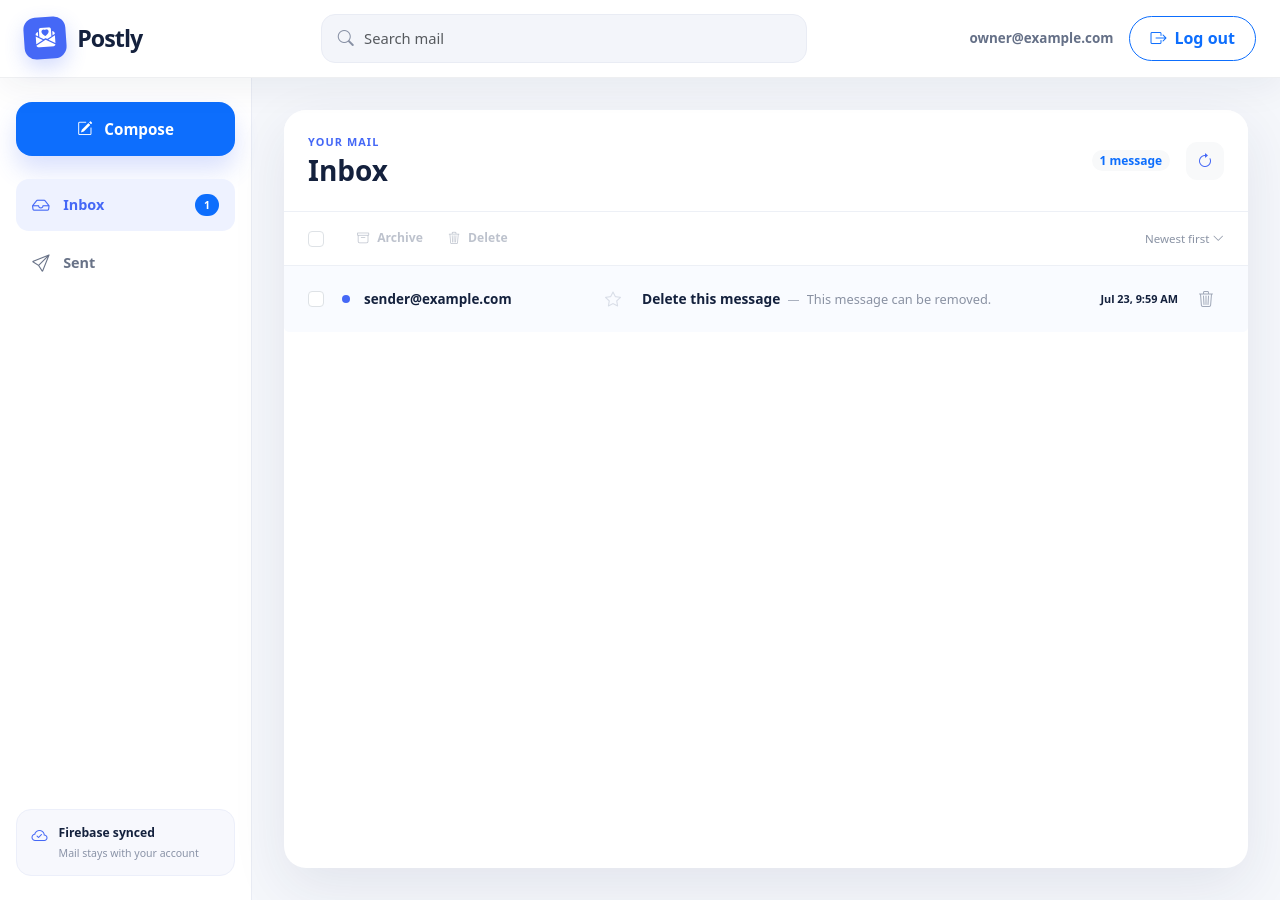
Scenario: Delete mail component › keeps the message visible and shows an error when deletion fails
Click the button named "Delete message: Delete this message" at (1206, 299), box left=1190, top=283, right=1222, bottom=315
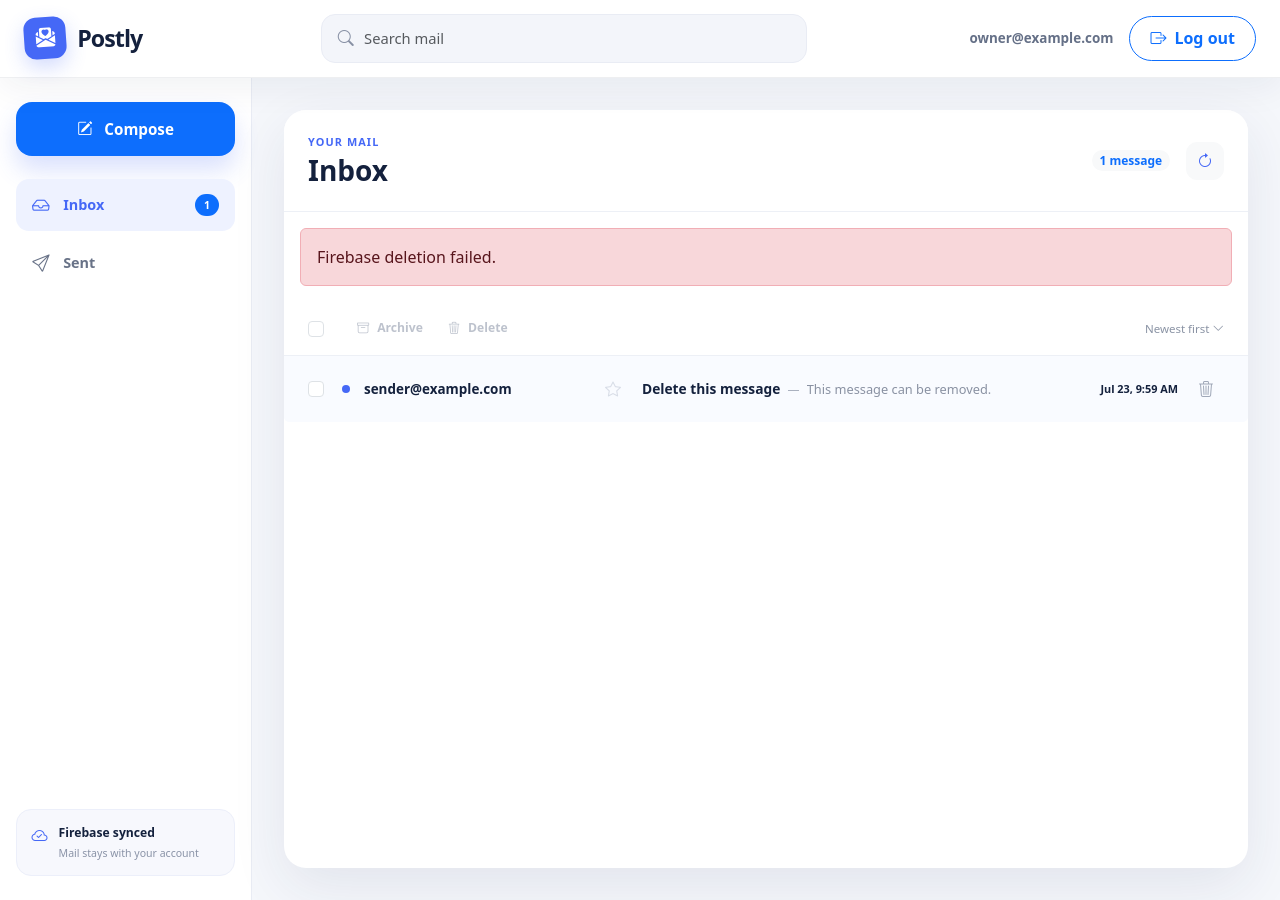
Expected: the heading "Delete this message" is shown, left=642, top=380, right=780, bottom=397
Expected: the text "Firebase deletion failed." is shown, left=300, top=228, right=1232, bottom=286
